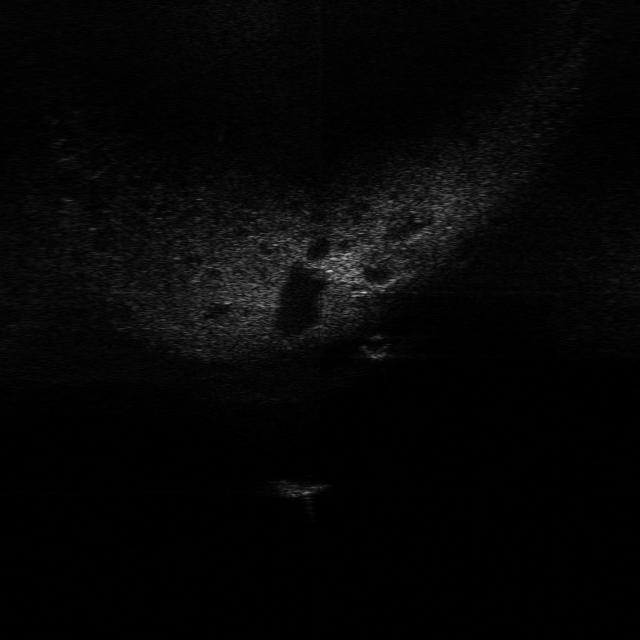ball: (357, 331, 393, 359)
cube: (264, 476, 334, 501)
